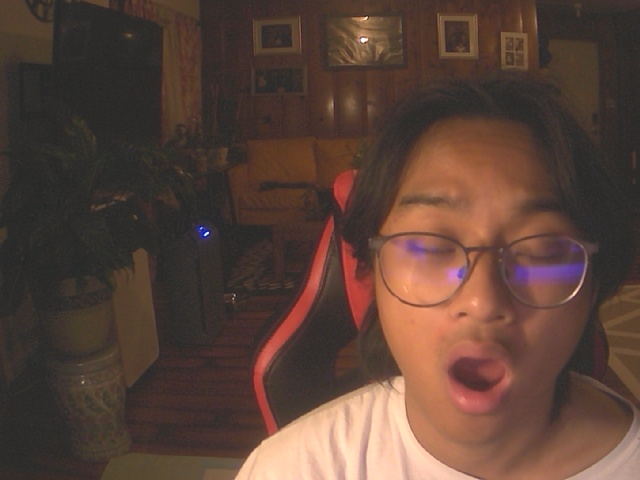fear: (333, 70, 633, 452)
